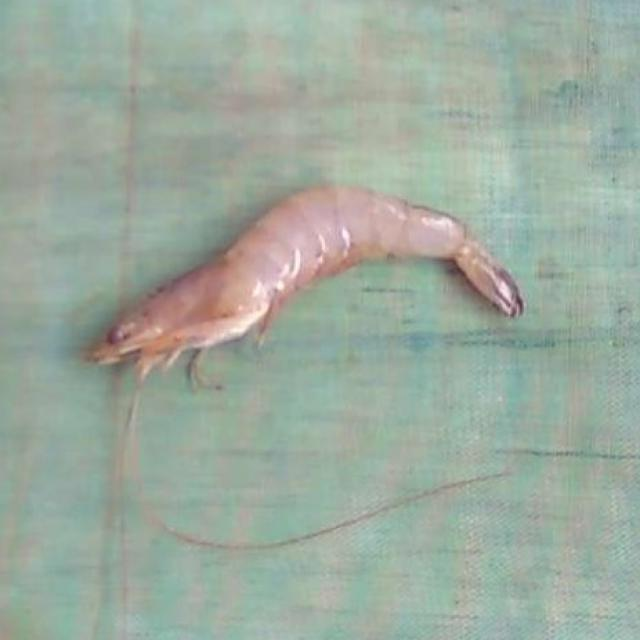shrimp: (87, 187, 524, 379)
